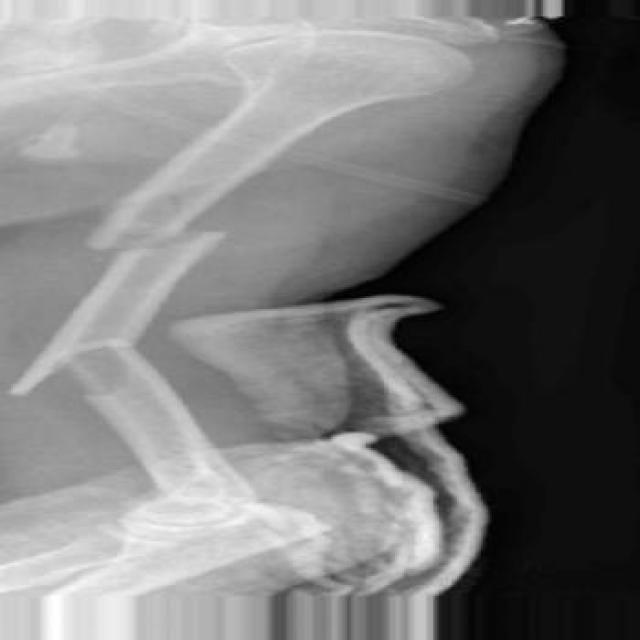Fracture: (20, 331, 162, 402), (69, 216, 246, 266)
